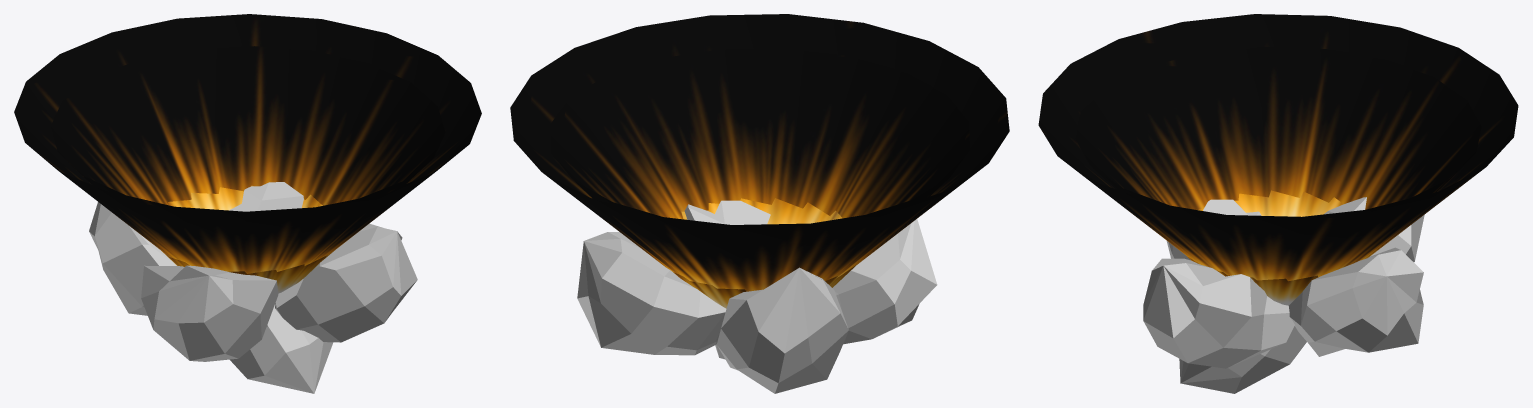
Rendered from meteo_break_graound_effect.FBX.
3 views of the same model, side by side, from view 1: azimuth 30°, elevation 25°; view 2: azimuth 150°, elevation 25°; view 3: azimuth 270°, elevation 25° (orthographic). The views are drawn at different scales.
Parts seen in each view (by area): view 1: Cylinder04, Bone06, Bone01, Bone08, Bone05, Bone03; view 2: Cylinder04, Bone03, Bone05, Bone06, Bone01; view 3: Cylinder04, Bone01, Bone03, Bone08, Bone05, Bone06.
Part boxes in pixels (bbox=[...]): Cylinder04: bbox=[14, 14, 481, 293]; Bone06: bbox=[141, 265, 278, 361]; Bone01: bbox=[275, 223, 417, 342]; Bone08: bbox=[230, 304, 333, 393]; Bone05: bbox=[89, 202, 176, 315]; Bone03: bbox=[229, 182, 303, 211]; Cylinder04: bbox=[510, 14, 1009, 308]; Bone03: bbox=[577, 232, 726, 355]; Bone05: bbox=[716, 267, 848, 393]; Bone06: bbox=[832, 219, 937, 344]; Bone01: bbox=[684, 200, 770, 224]; Cylinder04: bbox=[1038, 14, 1518, 305]; Bone01: bbox=[1143, 258, 1294, 368]; Bone03: bbox=[1289, 247, 1423, 356]; Bone08: bbox=[1179, 326, 1306, 393]; Bone05: bbox=[1324, 197, 1424, 261]; Bone06: bbox=[1166, 199, 1261, 260].
Size of the model in its own units: 648 by 385 by 648.
